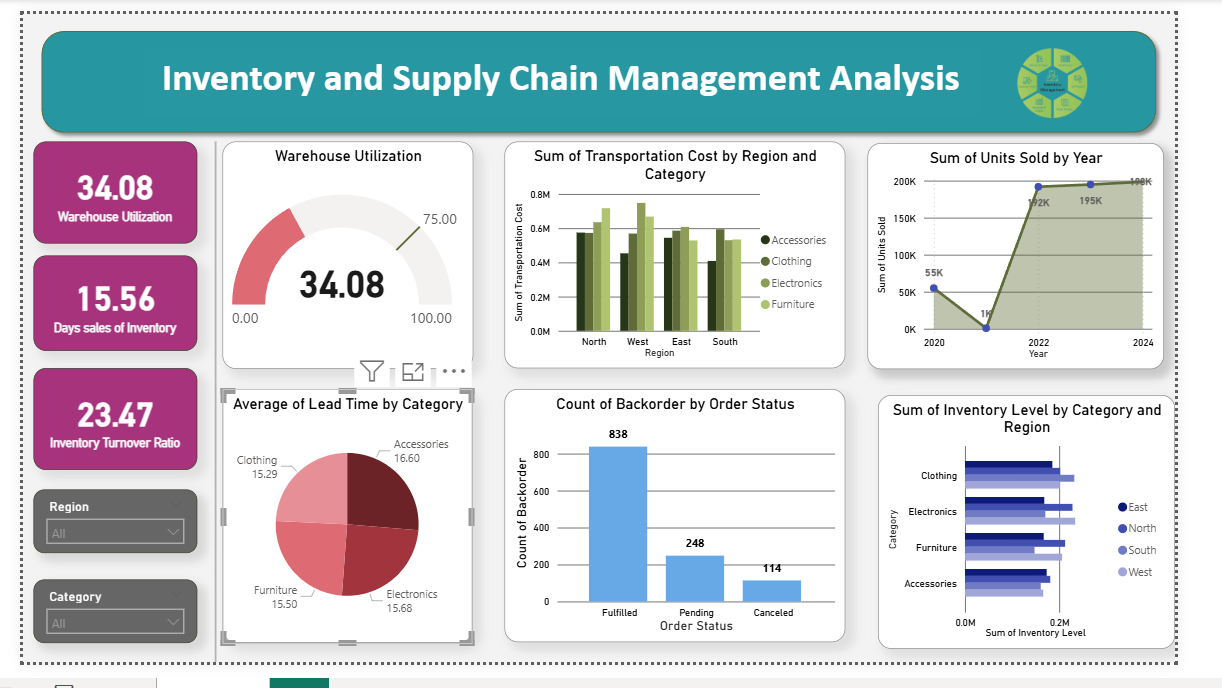

What the dashboard file says about the page in this screenshot:
{"tool":"powerbi","page":{"name":"Page 1","canvas":[1280,720],"ordinal":0},"visuals":[{"type":"shape","box":[11.8,10.3,1256.3,130.8],"z":0},{"type":"textbox","box":[133.7,38.2,928.7,74.9],"z":1000},{"type":"image","box":[1049.1,25,191,102.9],"z":2000},{"type":"shape","box":[207.2,141.1,14.7,578.9],"z":3000},{"type":"card","fields":{"Values":["Inventory and Supply Chain Dataset.Warehouse Utilization"]},"box":[11.8,141.1,182.2,113.1],"z":4000},{"type":"card","fields":{"Values":["Inventory and Supply Chain Dataset.Days sales of Inventory"]},"box":[11.8,268.9,182.2,105.8],"z":5000},{"type":"card","fields":{"Values":["Inventory and Supply Chain Dataset.Inventory Turnover Ratio"]},"box":[11.8,393.8,182.2,113.1],"z":6000},{"type":"slicer","fields":{"Values":["Inventory and Supply Chain Dataset.Region"]},"box":[11.8,529,182.2,70.5],"z":7000},{"type":"slicer","fields":{"Values":["Inventory and Supply Chain Dataset.Category"]},"box":[11.8,628.9,182.2,70.5],"z":8000},{"type":"gauge","fields":{"Y":["Inventory and Supply Chain Dataset.Warehouse Utilization"]},"box":[221.8,142.5,278.5,252.6],"z":9000},{"type":"clusteredColumnChart","fields":{"Y":["Sum(Inventory and Supply Chain Dataset.Transportation Cost)"],"Category":["Inventory and Supply Chain Dataset.Region"],"Series":["Inventory and Supply Chain Dataset.Category"]},"box":[535,141.7,378.3,251.7],"z":10000},{"type":"lineChart","fields":{"Y":["Sum(Inventory and Supply Chain Dataset.Units Sold)"],"Category":["Inventory and Supply Chain Dataset.Date.Variation.Date Hierarchy.Year"]},"box":[938.9,142.5,329.1,251.3],"z":11000},{"type":"pieChart","fields":{"Y":["Avg(Inventory and Supply Chain Dataset.Lead Time)"],"Category":["Inventory and Supply Chain Dataset.Category"]},"box":[221.9,417.3,277.7,282.1],"z":12000},{"type":"columnChart","fields":{"Y":["CountNonNull(Inventory and Supply Chain Dataset.Backorder)"],"Category":["Inventory and Supply Chain Dataset.Order Status"]},"box":[534.3,417.1,378.6,281.4],"z":13000},{"type":"clusteredBarChart","fields":{"Y":["Sum(Inventory and Supply Chain Dataset.Inventory Level)"],"Category":["Inventory and Supply Chain Dataset.Category"],"Series":["Inventory and Supply Chain Dataset.Region"]},"box":[950,423.3,330,281.7],"z":14000}]}

Visuals, with their boxes in screenshot pixels (x1, y1, x2, y2), scaled from the page's 1280x720 canvas onto the 1222x688 screenshot:
shape: l=11, t=10, r=1211, b=135
textbox: l=128, t=37, r=1014, b=108
image: l=1002, t=24, r=1184, b=122
shape: l=198, t=135, r=212, b=687
card - Inventory and Supply Chain Dataset.Warehouse Utilization: l=11, t=135, r=185, b=243
card - Inventory and Supply Chain Dataset.Days sales of Inventory: l=11, t=257, r=185, b=358
card - Inventory and Supply Chain Dataset.Inventory Turnover Ratio: l=11, t=376, r=185, b=484
slicer - Inventory and Supply Chain Dataset.Region: l=11, t=505, r=185, b=573
slicer - Inventory and Supply Chain Dataset.Category: l=11, t=601, r=185, b=668
gauge - Inventory and Supply Chain Dataset.Warehouse Utilization: l=212, t=136, r=478, b=378
clusteredColumnChart - Sum(Inventory and Supply Chain Dataset.Transportation Cost) x Inventory and Supply Chain Dataset.Region: l=511, t=135, r=872, b=376
lineChart - Sum(Inventory and Supply Chain Dataset.Units Sold) x Inventory and Supply Chain Dataset.Date.Variation.Date Hierarchy.Year: l=896, t=136, r=1211, b=376
pieChart - Avg(Inventory and Supply Chain Dataset.Lead Time) x Inventory and Supply Chain Dataset.Category: l=212, t=399, r=477, b=668
columnChart - CountNonNull(Inventory and Supply Chain Dataset.Backorder) x Inventory and Supply Chain Dataset.Order Status: l=510, t=399, r=872, b=667
clusteredBarChart - Sum(Inventory and Supply Chain Dataset.Inventory Level) x Inventory and Supply Chain Dataset.Category: l=907, t=404, r=1221, b=674
